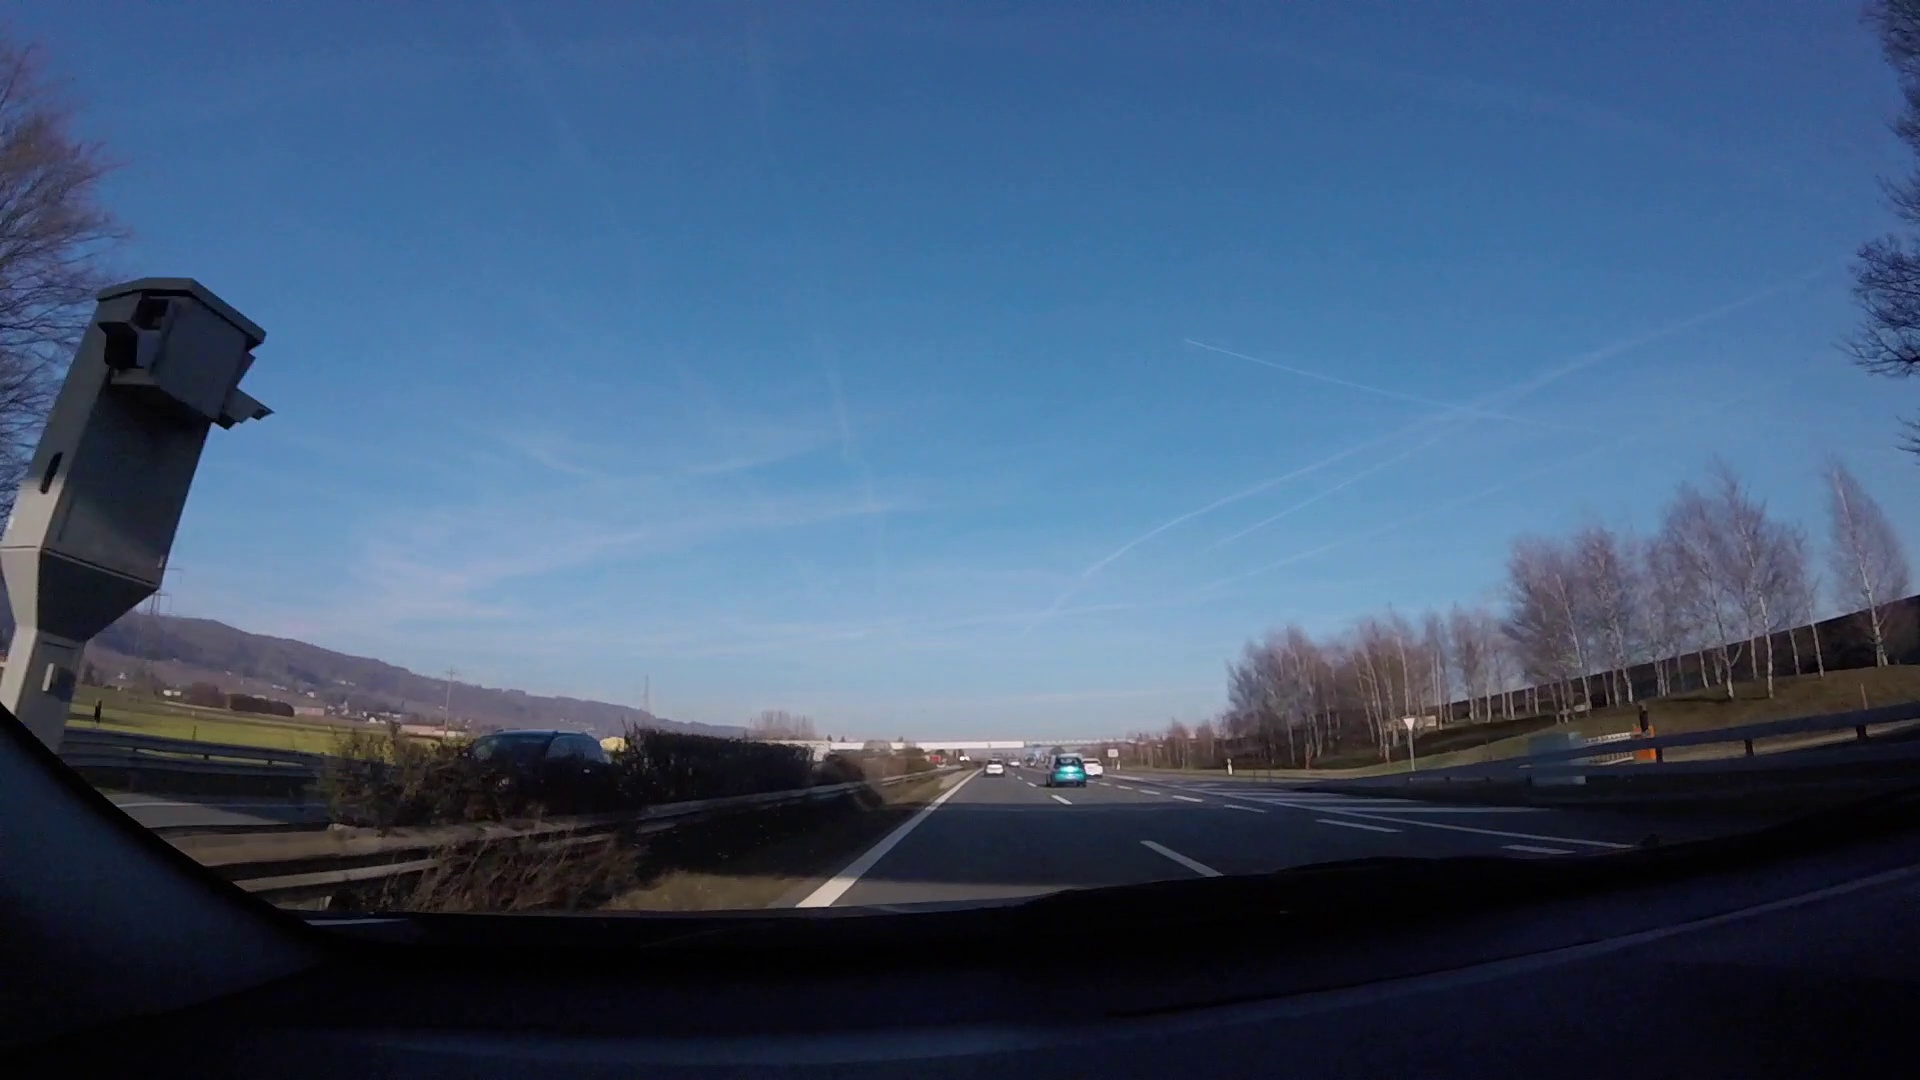radar: (7, 278, 278, 740)
